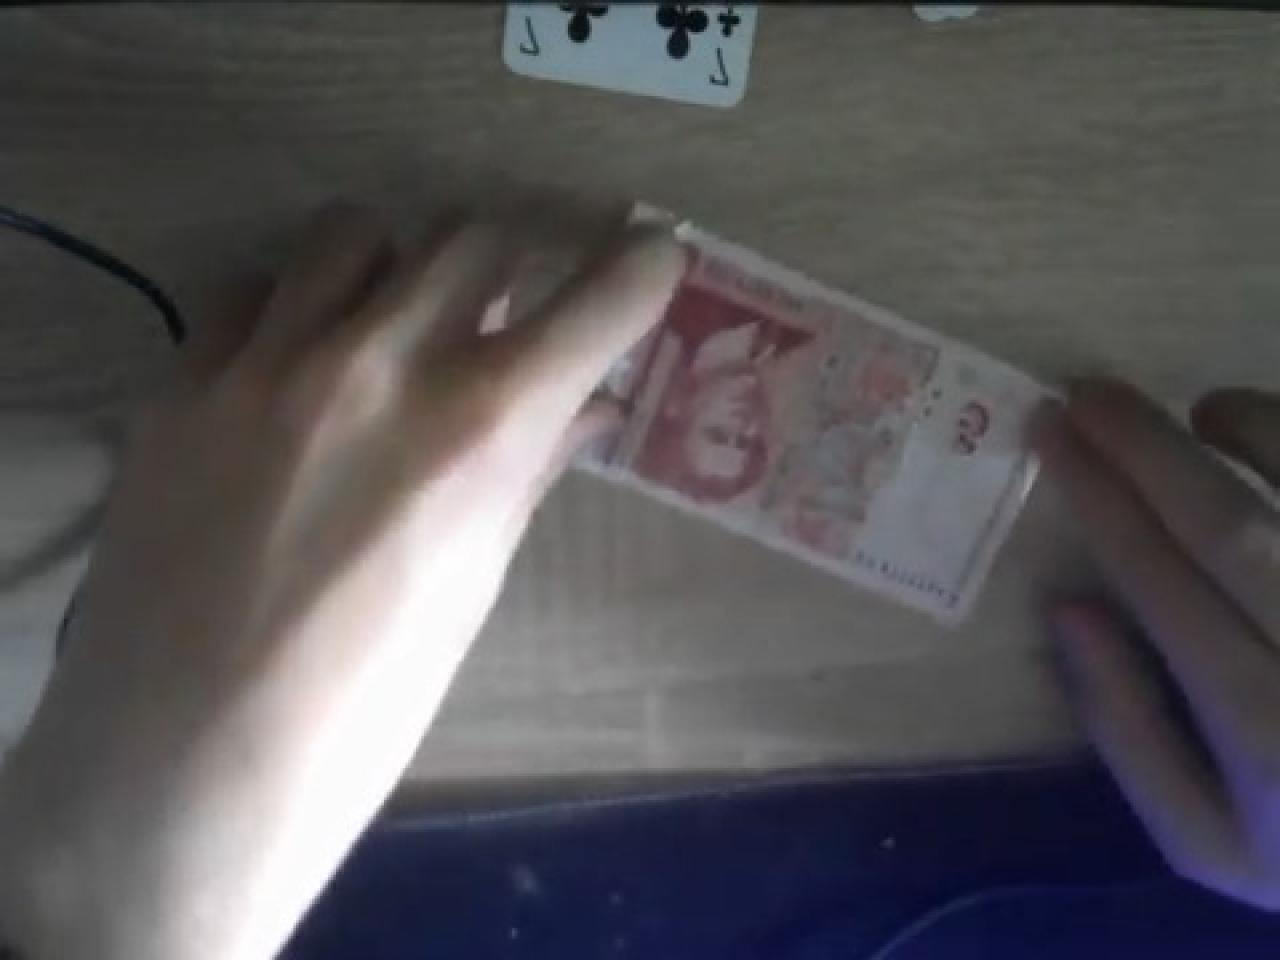5leva: (568, 216, 1064, 624), (816, 408, 859, 427), (776, 419, 797, 443)
